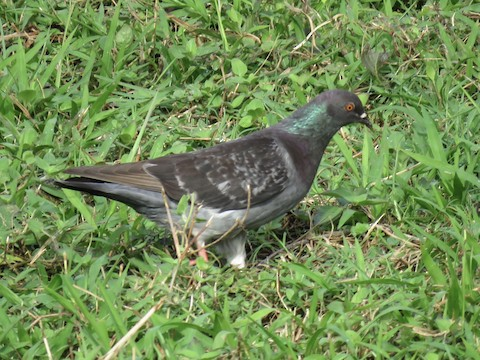pigeon: (51, 83, 376, 271)
